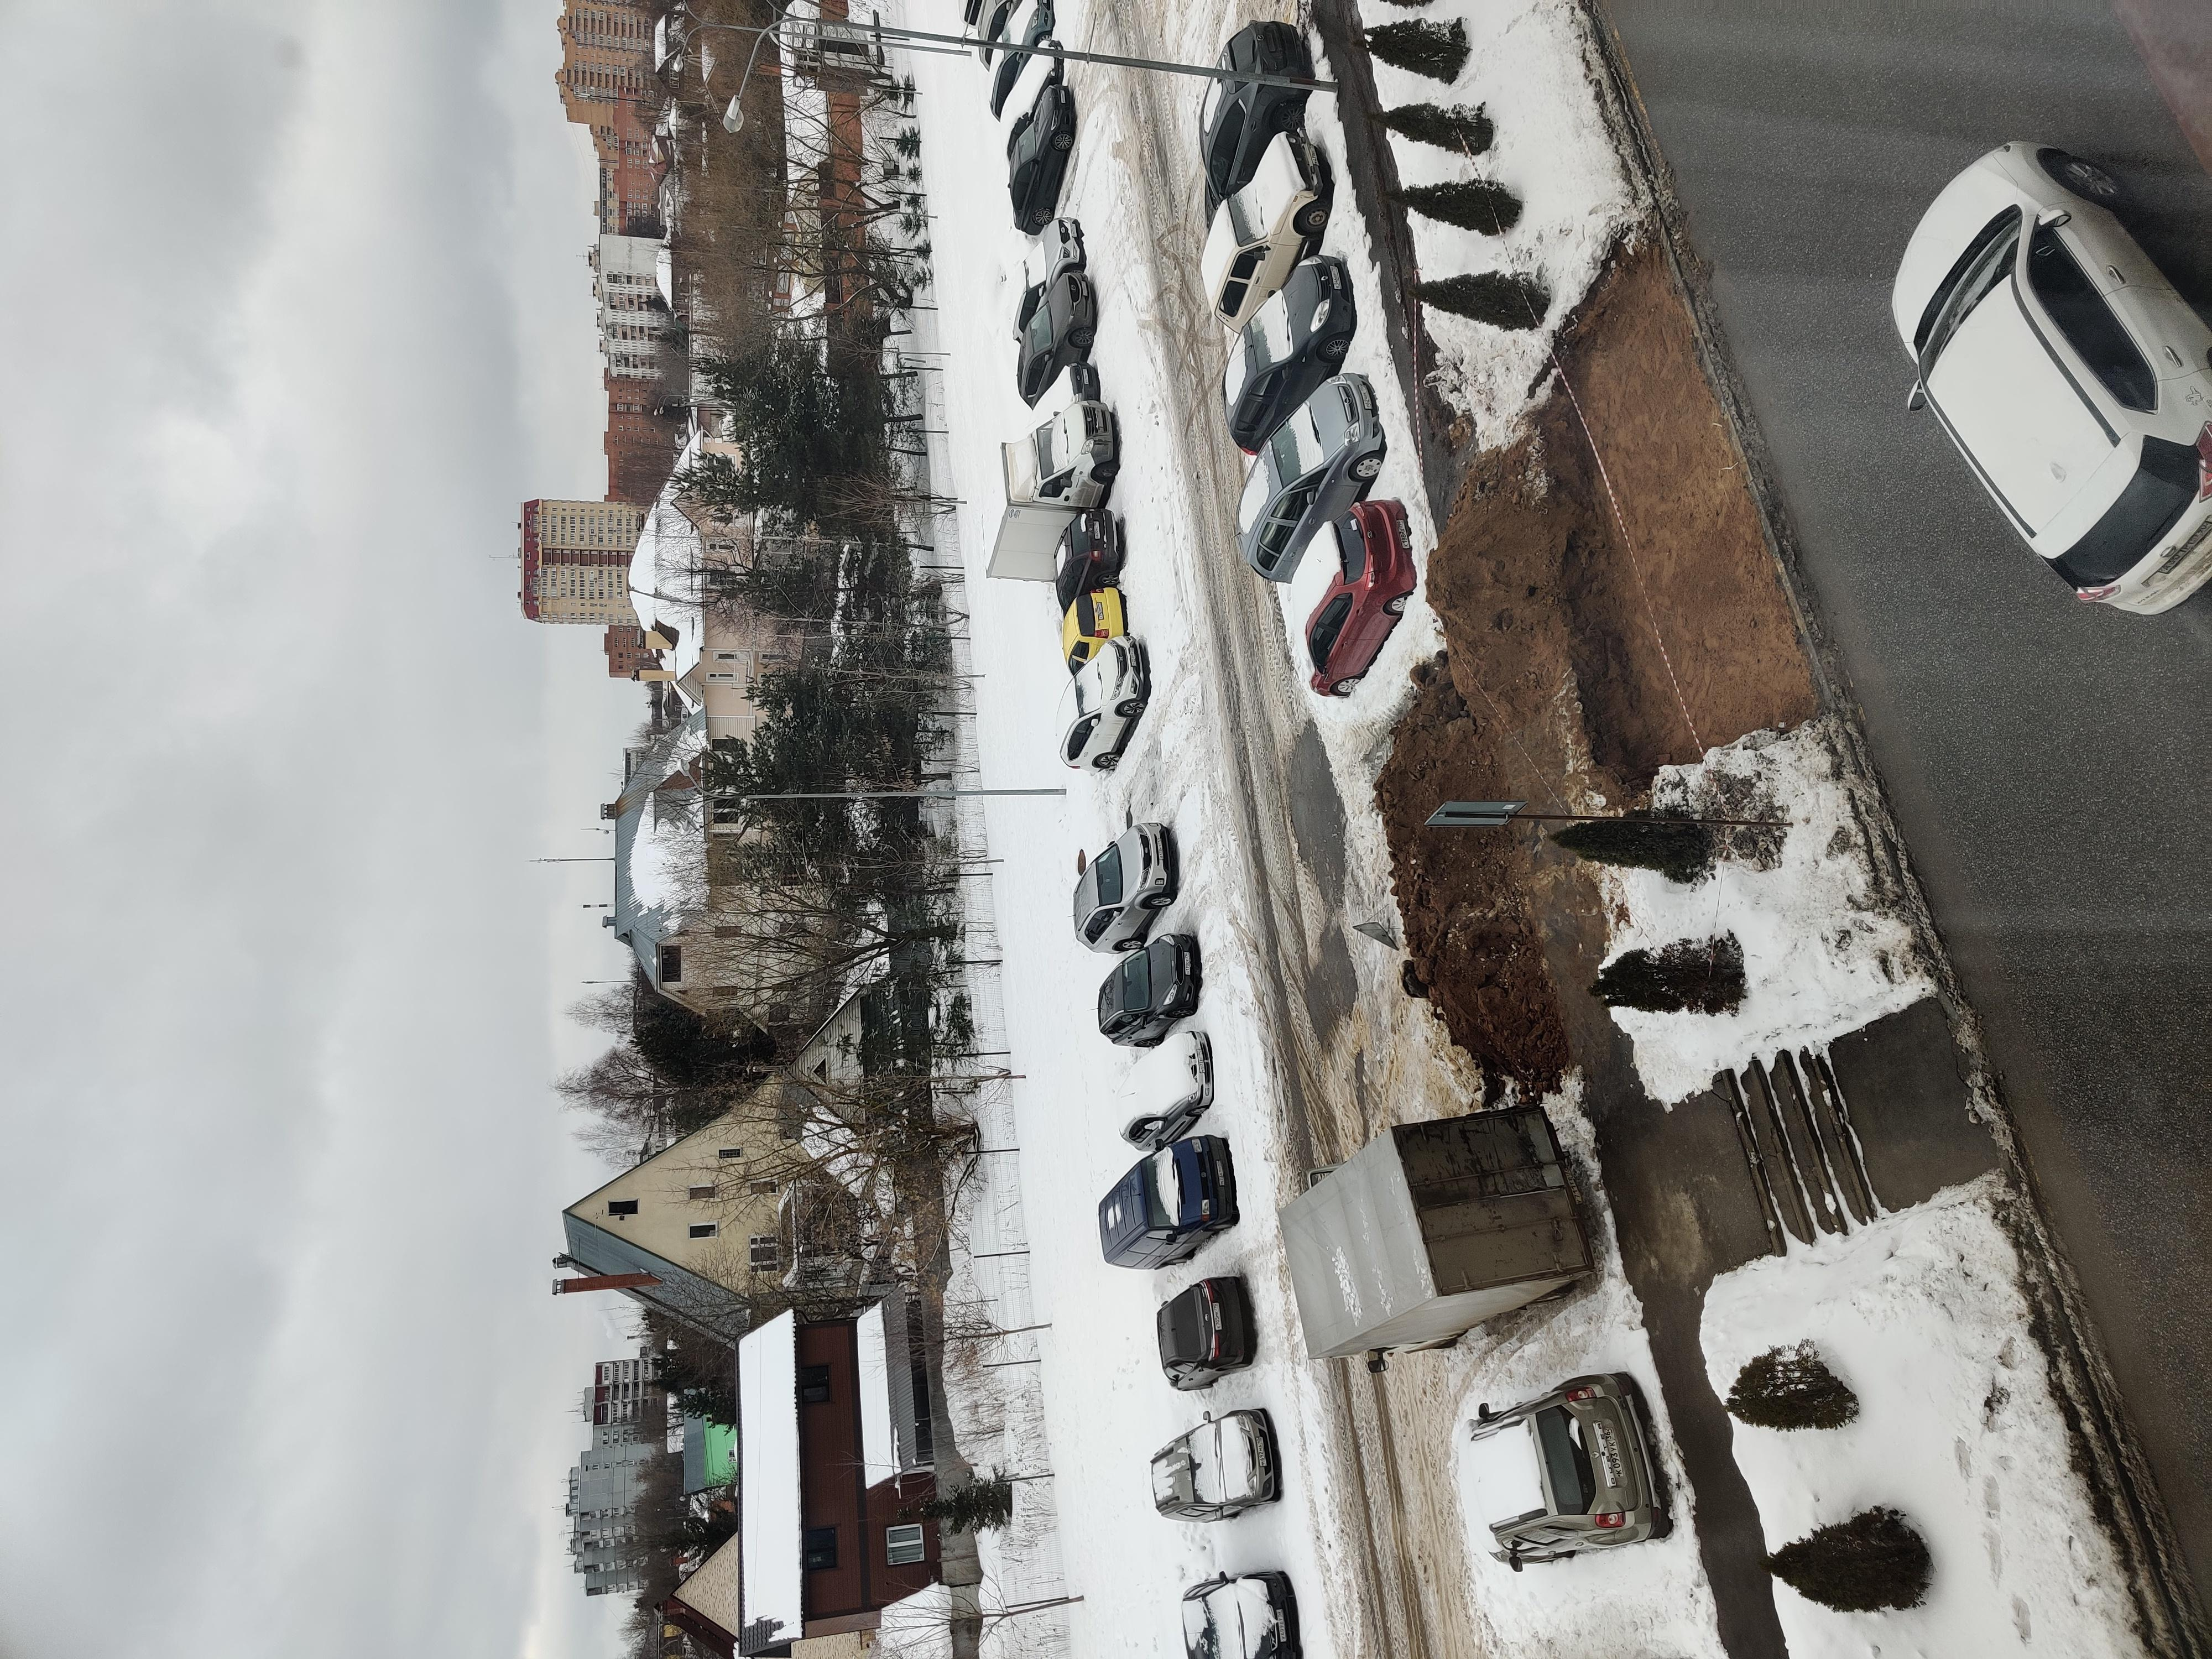empty: (1414, 1412, 2000, 1652), (376, 971, 763, 1194), (118, 1098, 380, 1251), (1780, 896, 2043, 1011), (1271, 958, 1541, 1070), (1480, 925, 1698, 1046), (1630, 908, 1853, 1025), (510, 812, 698, 938), (176, 850, 333, 969), (676, 810, 846, 918), (1902, 732, 2106, 816), (941, 791, 1111, 885), (359, 850, 517, 950), (0, 868, 124, 985), (1186, 782, 1359, 866), (1529, 753, 1686, 843), (822, 812, 961, 904), (1764, 744, 1923, 819), (1681, 748, 1831, 823), (1416, 779, 1531, 845), (1332, 789, 1440, 852)
occupied: (1111, 830, 1202, 899)
